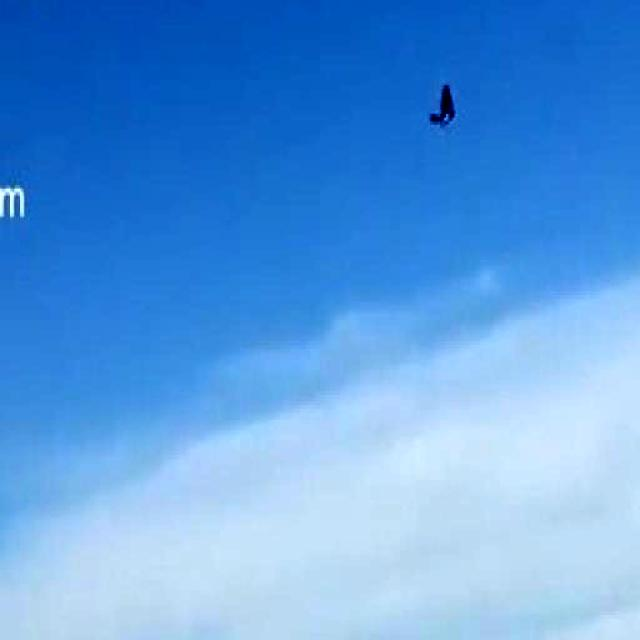airplane: (425, 78, 461, 136)
